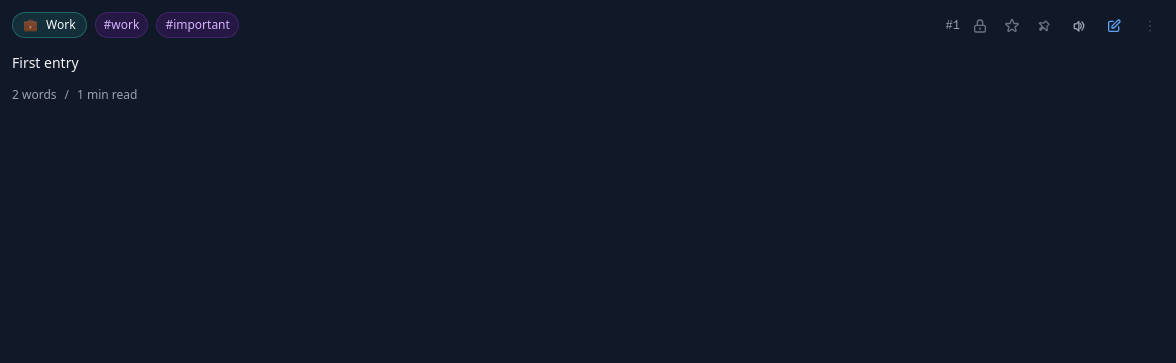
Test: EntryViewMode › loads and renders history revisions on demand
Click the button named "More actions".
click(1150, 26)  # box left=1136, top=12, right=1164, bottom=40
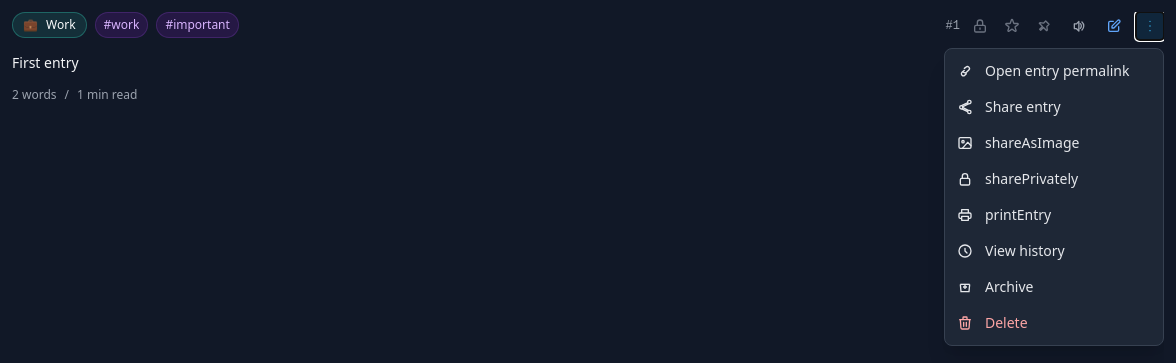
Click the menu item titled "View history".
click(1054, 251)  # box left=945, top=233, right=1163, bottom=269
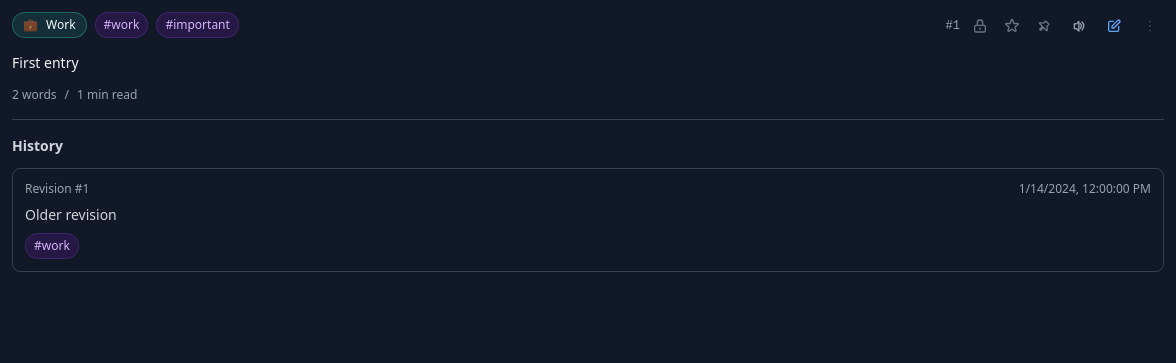
Expected: the heading "History" is shown, left=12, top=136, right=63, bottom=155
Expected: the text "Older revision" is shown, left=25, top=205, right=117, bottom=224
